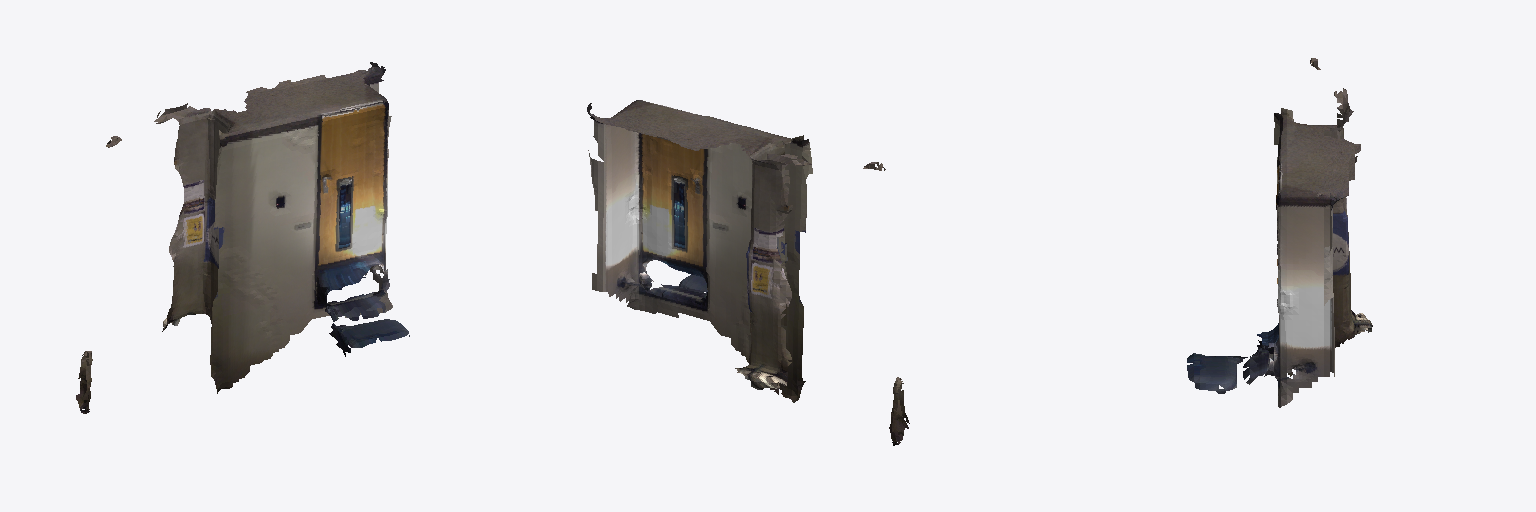
3 renders of one model, left to right at view 1: azimuth 30°, elevation 25°; view 2: azimuth 150°, elevation 25°; view 3: azimuth 270°, elevation 25°, orthographic.
Bounding box in the file's own units: 4.72 × 3.94 × 2.4.
Materials: 1 (1 with a texture image).